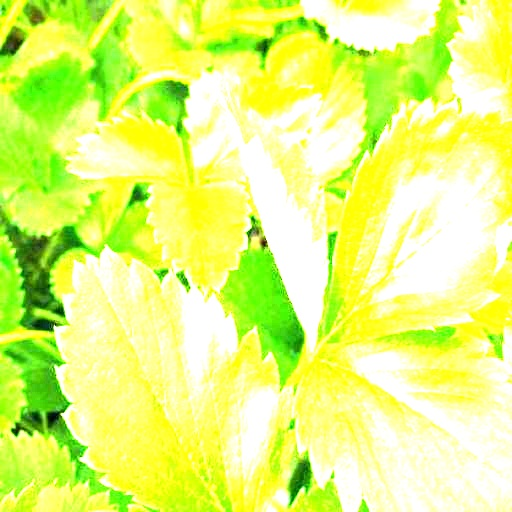Powdery Mildew Leaf: (319, 96, 511, 344), (213, 77, 329, 350)
